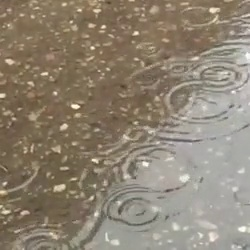drop: (166, 80, 238, 122), (125, 148, 190, 192), (187, 61, 248, 90), (1, 156, 37, 205), (12, 226, 84, 250), (120, 199, 158, 226), (179, 6, 217, 27), (134, 71, 159, 88), (138, 42, 160, 57), (167, 62, 190, 75)
